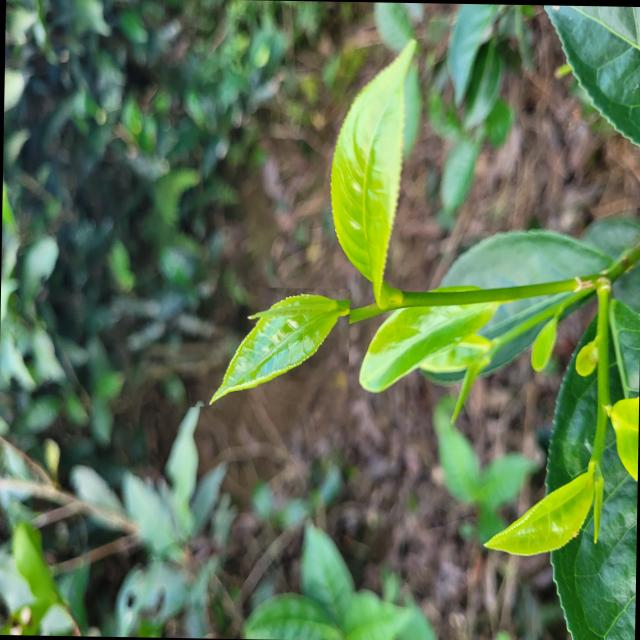Catagory A(1-2 days): (184, 284, 350, 408)
